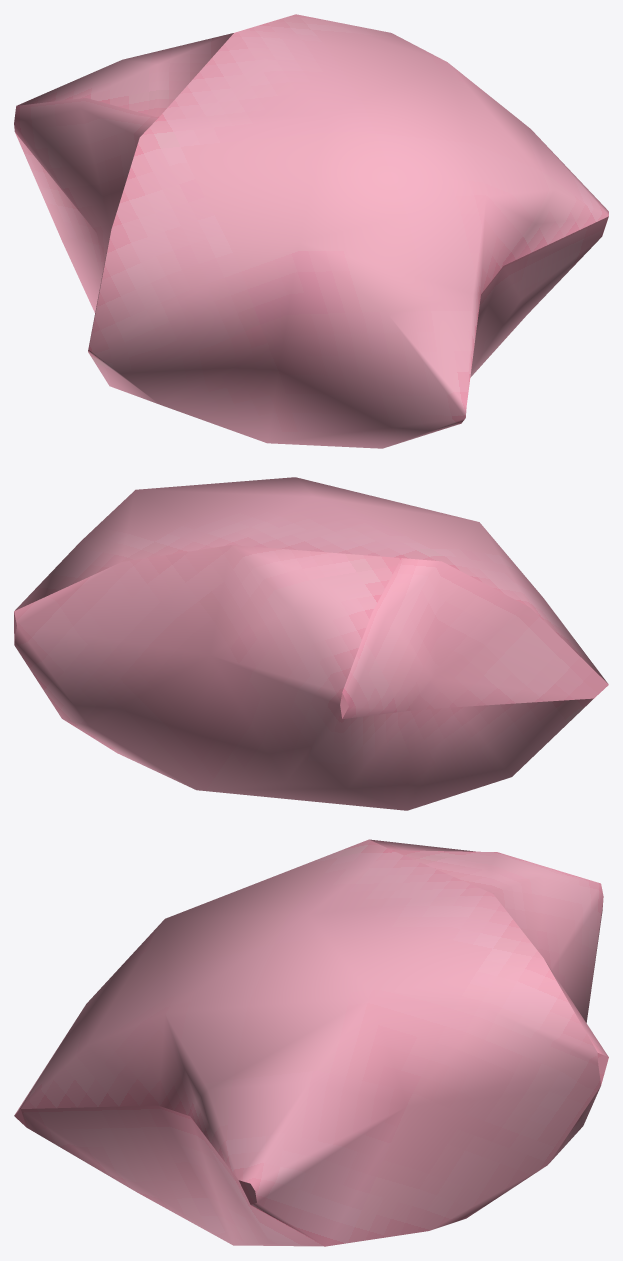
File: GTPaperStar.obj
The picture shows the model from 3 angles, top to bottom: view 1: azimuth 30°, elevation 25°; view 2: azimuth 150°, elevation 25°; view 3: azimuth 270°, elevation 25°; orthographic projection. The views are drawn at different scales.
Parts seen in each view (by area): view 1: ZZXX; view 2: ZZXX; view 3: ZZXX.
Boxes of the visible parts, x1=… form: ZZXX: x1=14, y1=14, x2=608, y2=448; ZZXX: x1=14, y1=477, x2=608, y2=810; ZZXX: x1=14, y1=839, x2=608, y2=1246.
Size of the model in its own units: 0.6973 by 0.3815 by 0.6663.
